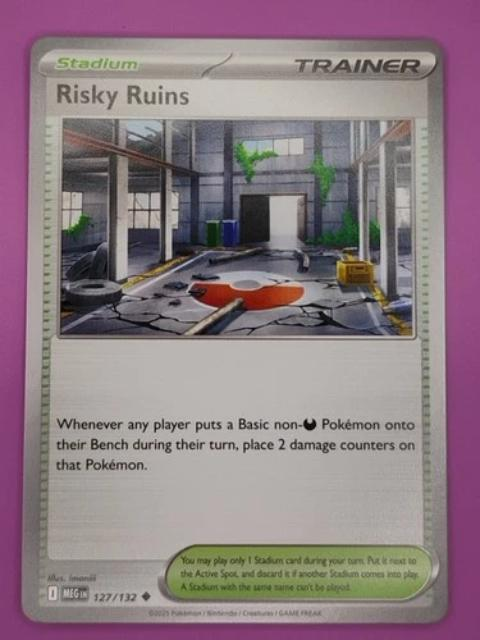Card: (14, 28, 453, 630)
Name: (49, 78, 202, 113)
